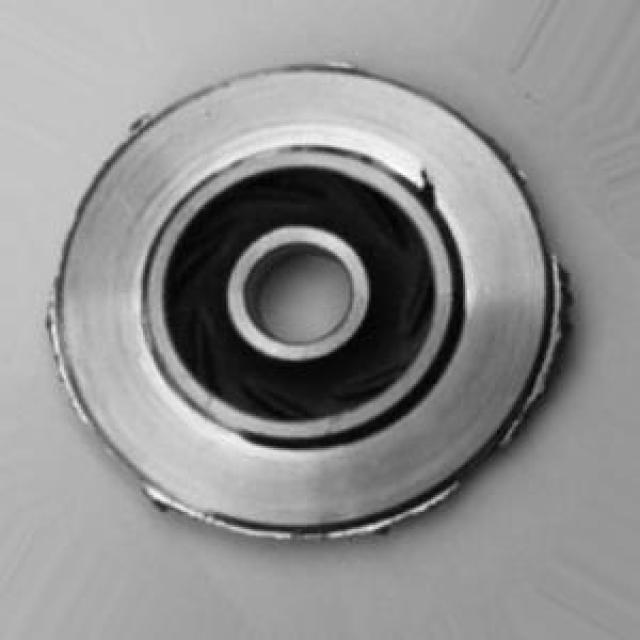Defect: (539, 257, 576, 403), (405, 162, 443, 216)
